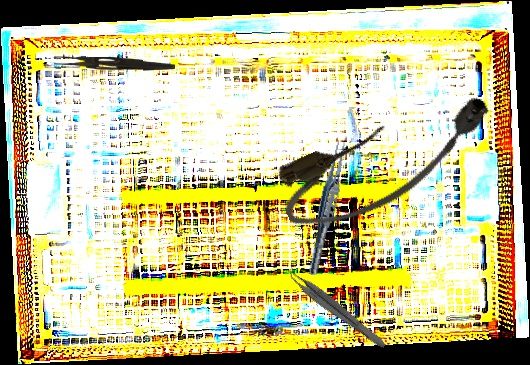Cannula: (268, 82, 508, 243)
Dressing Forceps: (53, 55, 176, 72)
Tissue Forceps: (282, 265, 392, 351), (305, 137, 350, 277)
